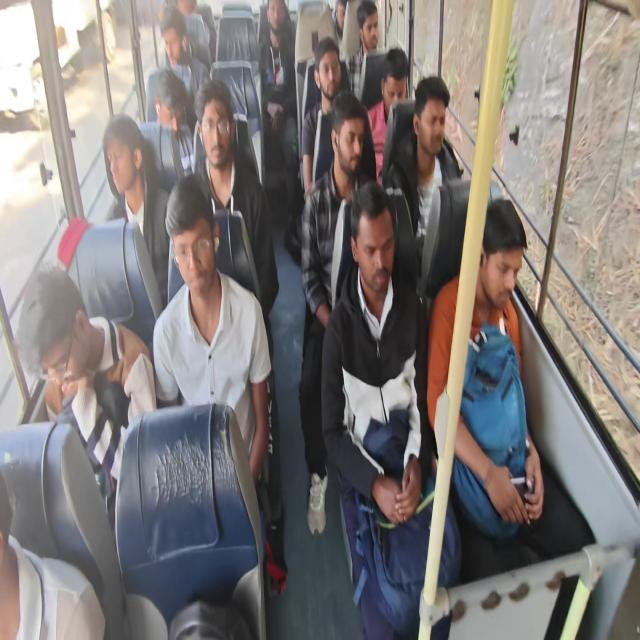person: (12, 2, 561, 636), (320, 180, 462, 638), (426, 197, 544, 544), (152, 173, 272, 489), (16, 262, 156, 530), (298, 90, 378, 535), (192, 78, 280, 356), (380, 75, 464, 292), (0, 469, 106, 639), (102, 113, 172, 308), (258, 0, 300, 259), (300, 36, 351, 200), (159, 5, 210, 129), (366, 46, 410, 183), (152, 67, 194, 175), (345, 0, 380, 104), (332, 0, 348, 58)
